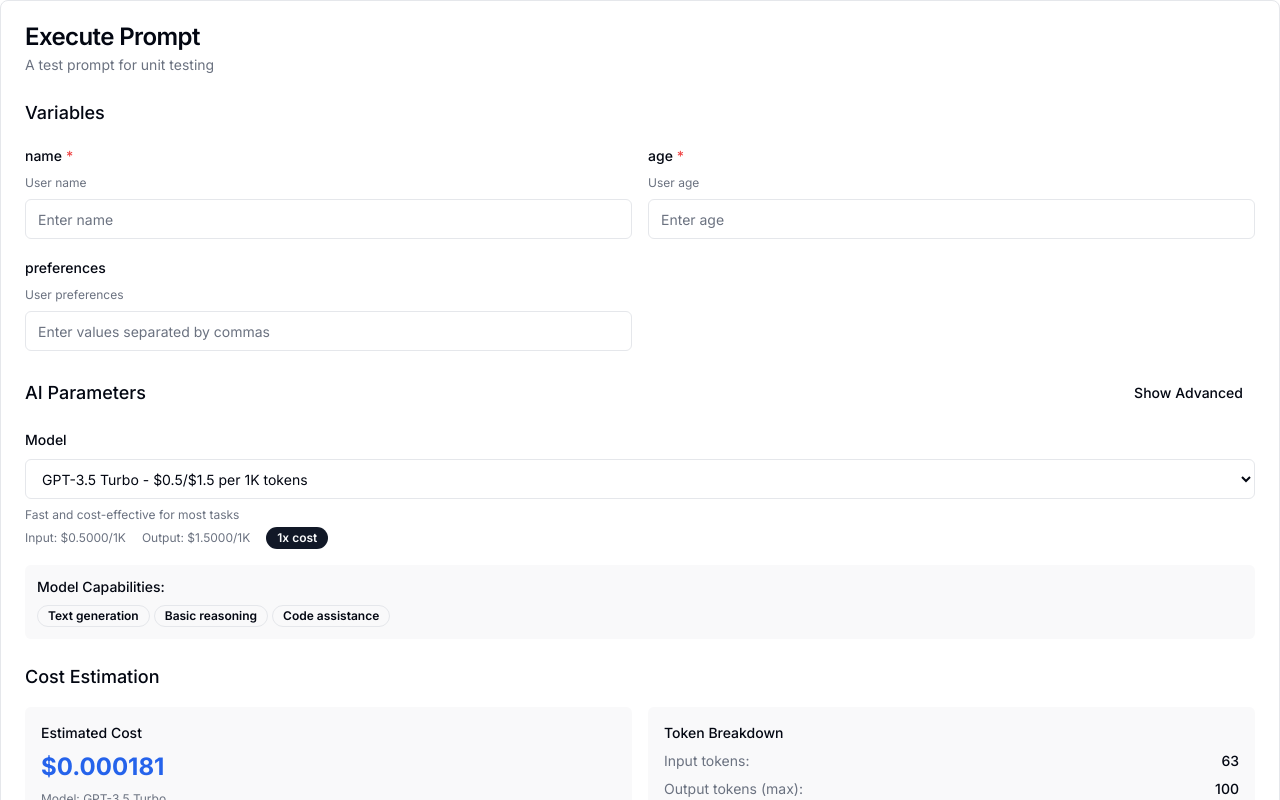
Test case: EnhancedExecutionPanel › Execution Flow › submits execution request with correct data
Step 1. Type "John Doe" into the field labelled "name*" → x=328, y=219, box [25, 199, 632, 239]
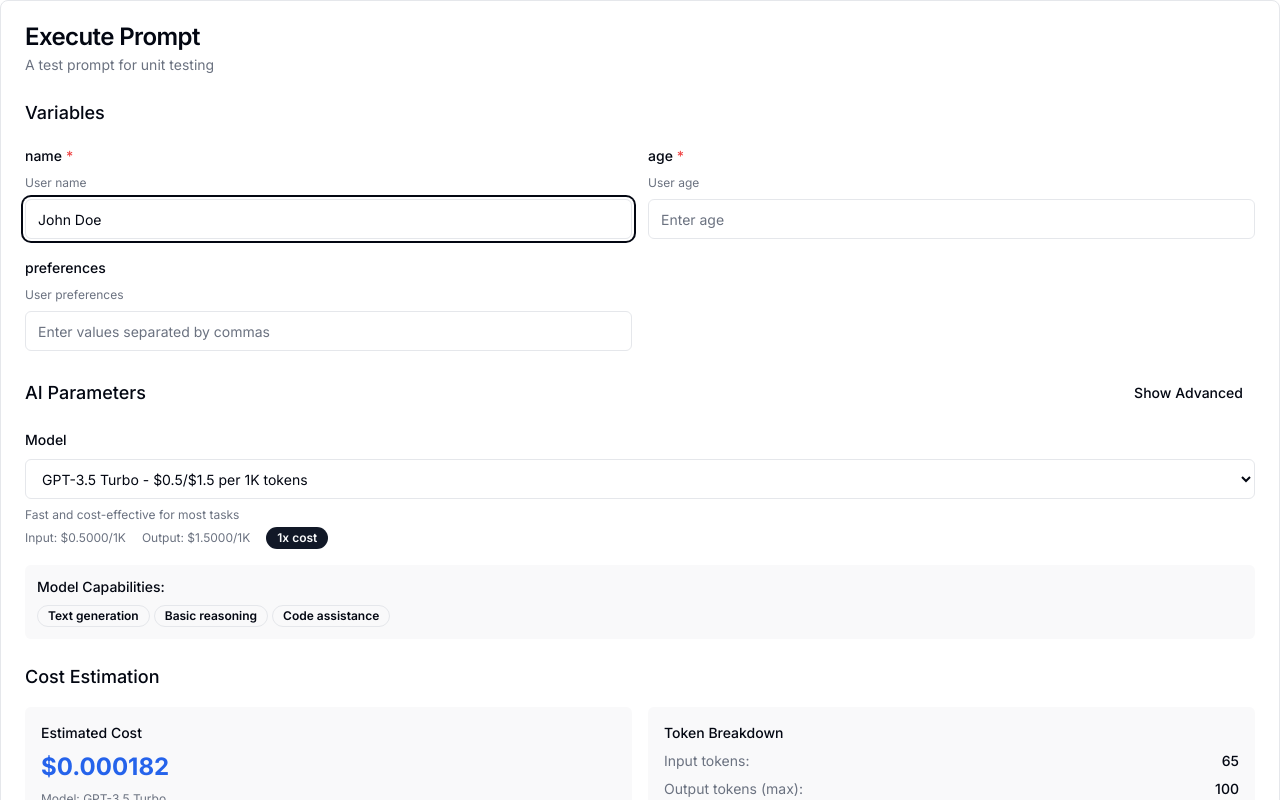
Step 2. Type "25" into the number field labelled "age*" → x=952, y=219, box [648, 199, 1255, 239]
(page scrolled)
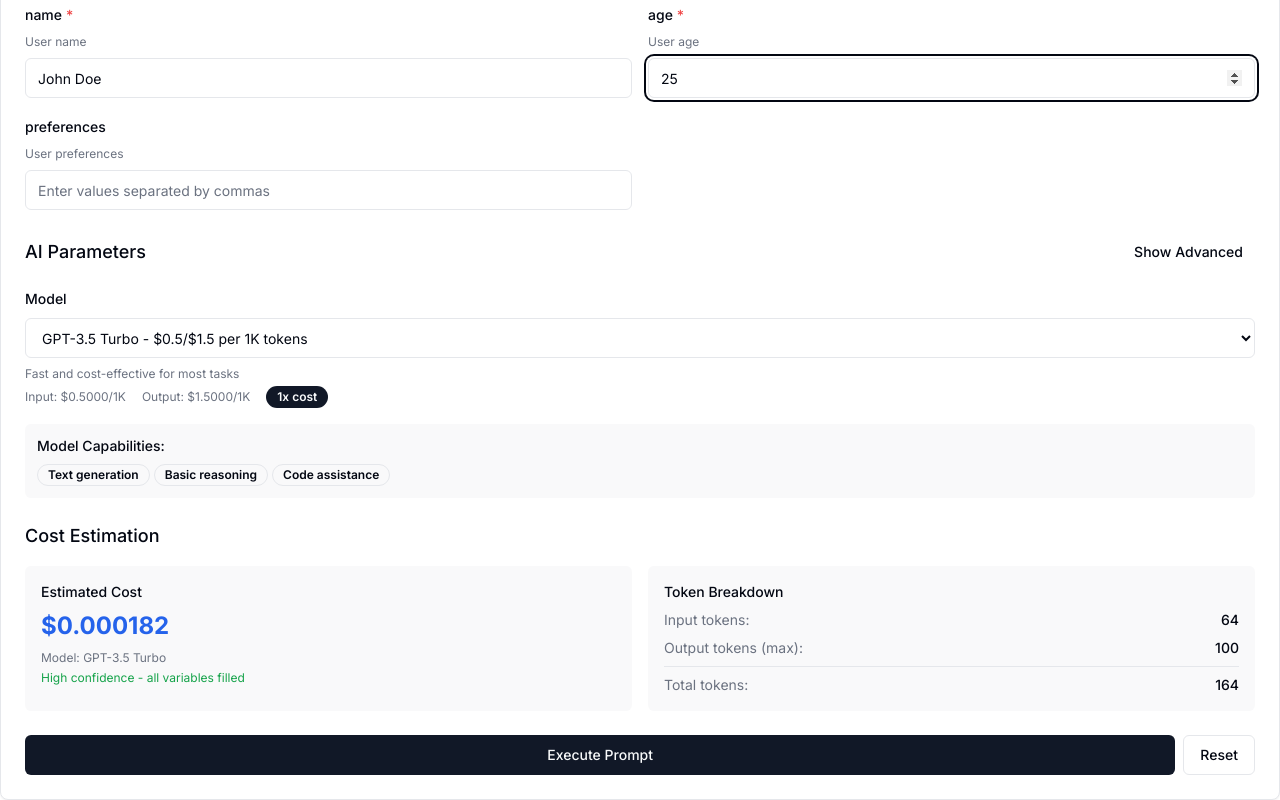
Step 3. Click the button with test id "execute-prompt-button" → x=600, y=755, box [25, 735, 1175, 775]
(page scrolled)
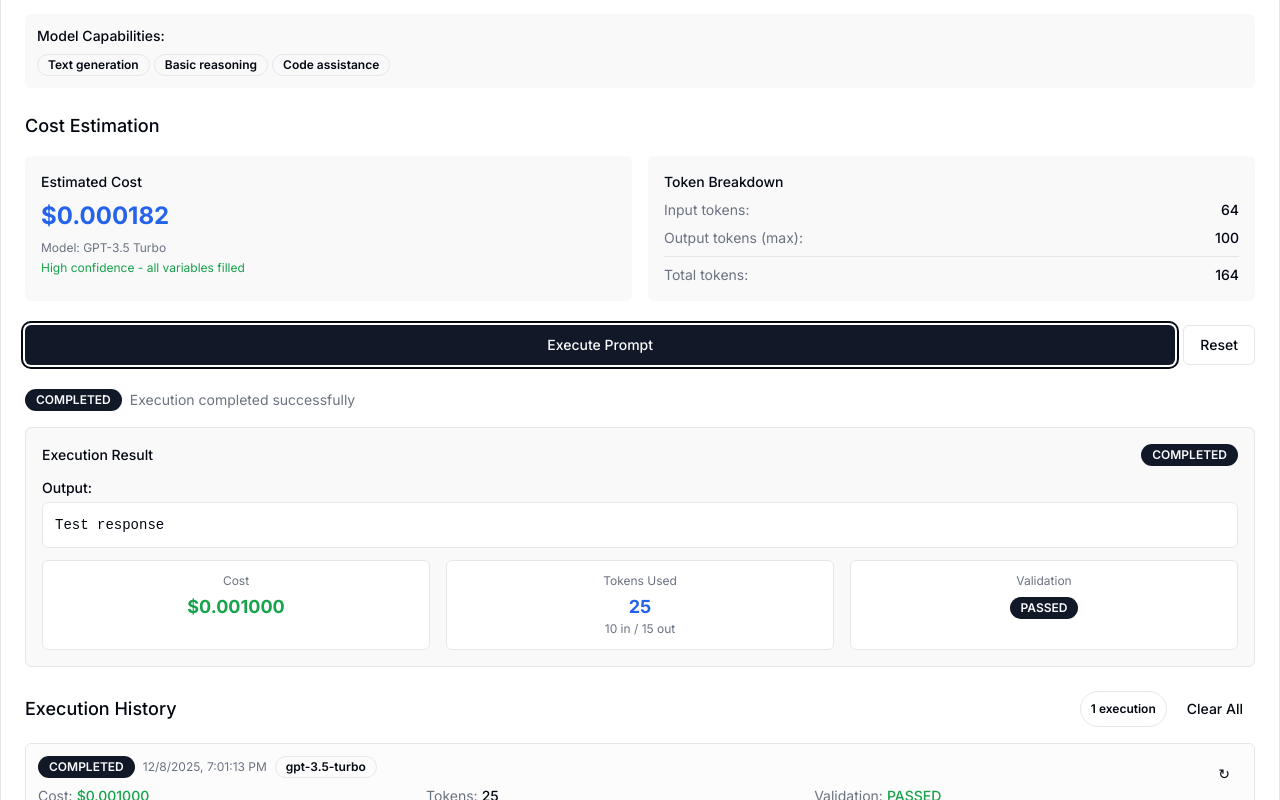
Expected: the text "Execution completed successfully" is shown, [130, 390, 355, 410]
